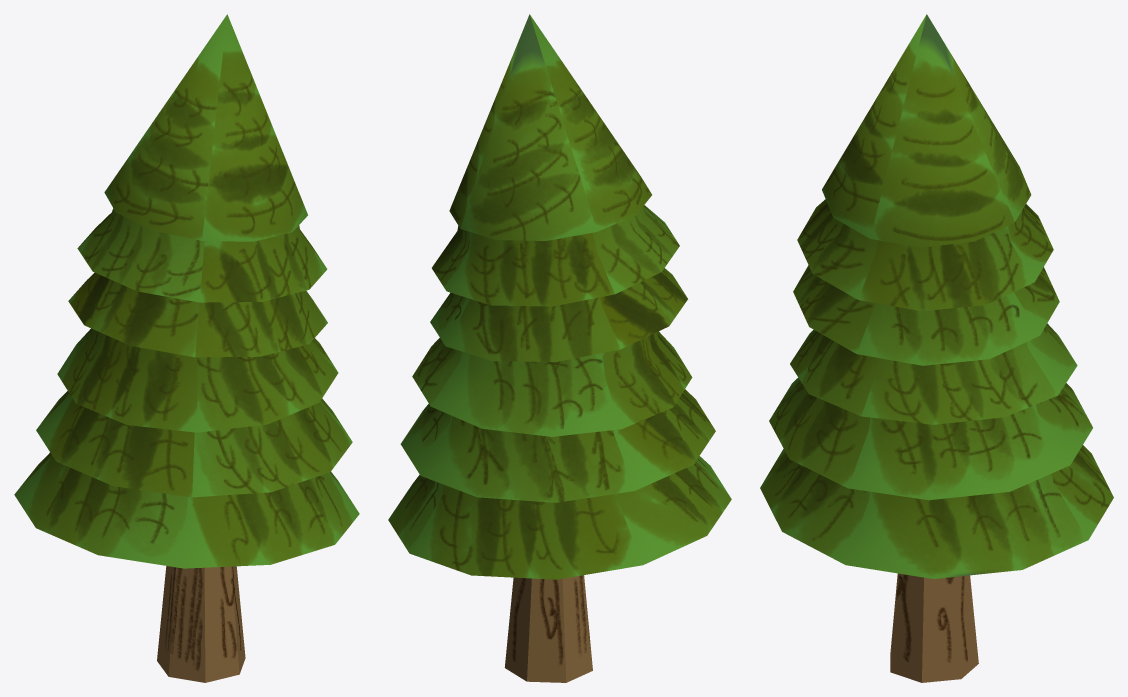
Rendered from tree.obj.
3 views of the same model, side by side, from view 1: azimuth 30°, elevation 25°; view 2: azimuth 150°, elevation 25°; view 3: azimuth 270°, elevation 25° (orthographic). The views are drawn at different scales.
Parts seen in each view (by area): view 1: Circle; view 2: Circle; view 3: Circle.
Boxes of the visible parts, x1,y1,x2,y2 form: Circle: [14, 14, 359, 682]; Circle: [388, 14, 731, 682]; Circle: [760, 14, 1113, 682].
Bounding box in the file's own units: 6.45 × 13.31 × 6.46.
1 material, 1 textured.
